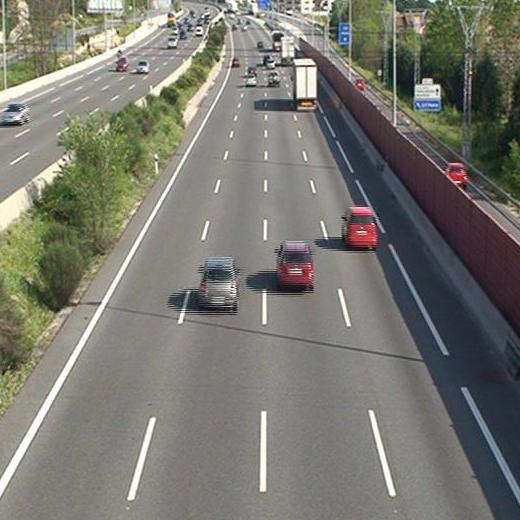car: (200, 260, 237, 306), (276, 242, 313, 286), (343, 208, 377, 248), (268, 71, 279, 85), (246, 74, 257, 86), (266, 58, 275, 69), (231, 58, 239, 68)
truck: (294, 60, 317, 111), (282, 37, 295, 63)
